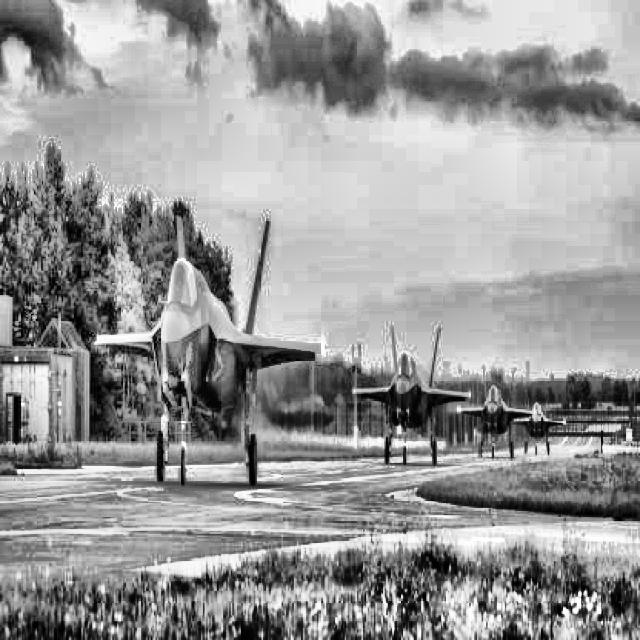F35: (94, 214, 326, 486), (352, 326, 472, 466), (458, 366, 536, 459), (259, 380, 333, 435), (509, 390, 566, 456)
